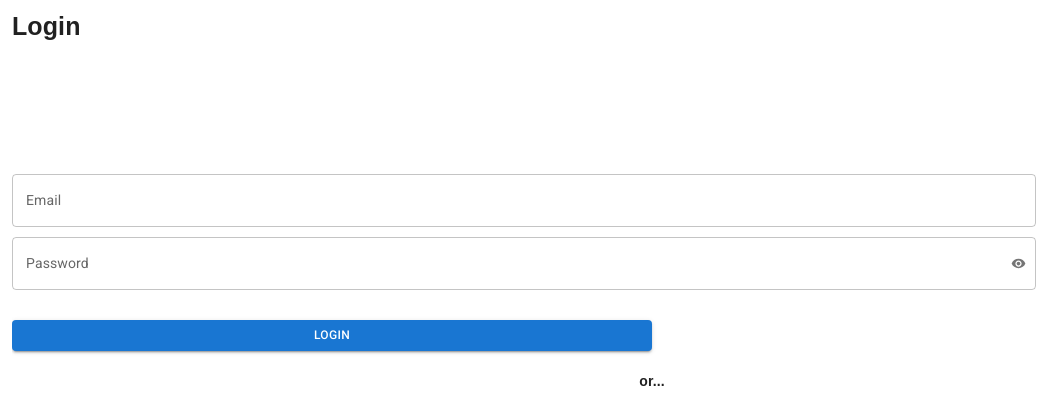
Test: testing Login component › login with email and password successful › button behaviour when submit success
Step 1. Type "test@test.com" into the field labelled "Email" → x=524, y=200, box 12,174 -> 1036,227
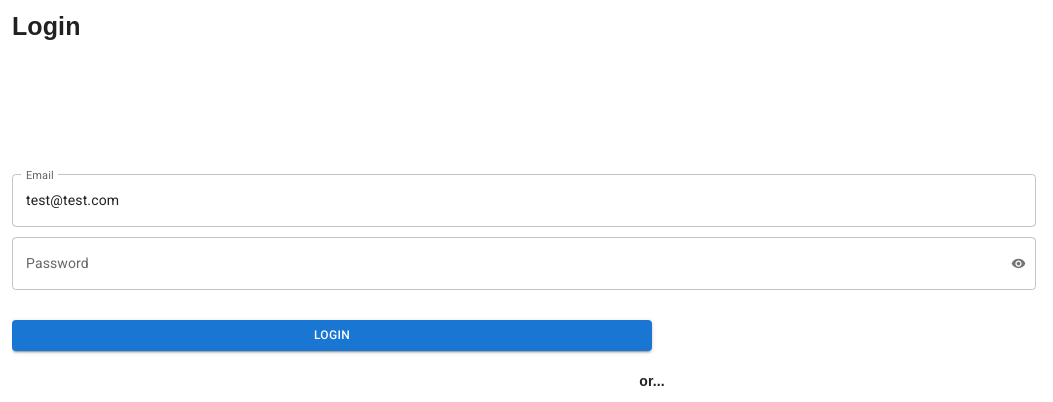
Step 2. Type "testPassword" into the password field with test id "password" → x=504, y=263, box 12,237 -> 995,290
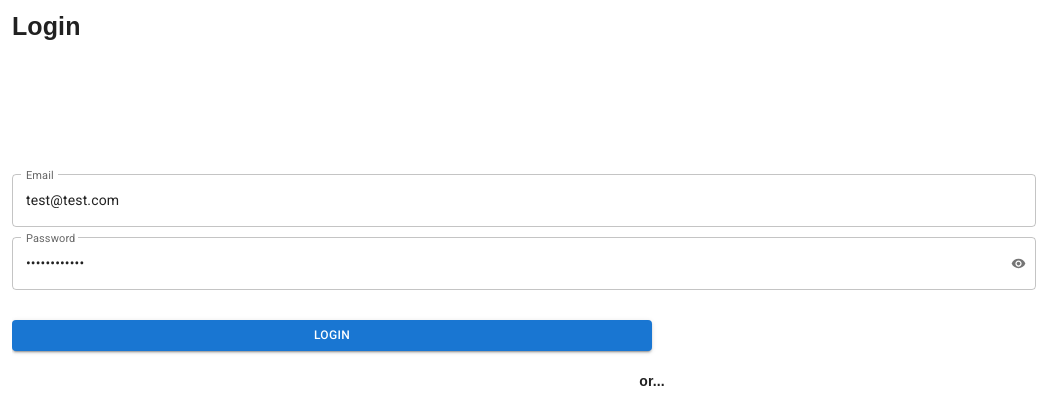
Step 3. Click the button "Login" → x=332, y=335, box 12,320 -> 652,351
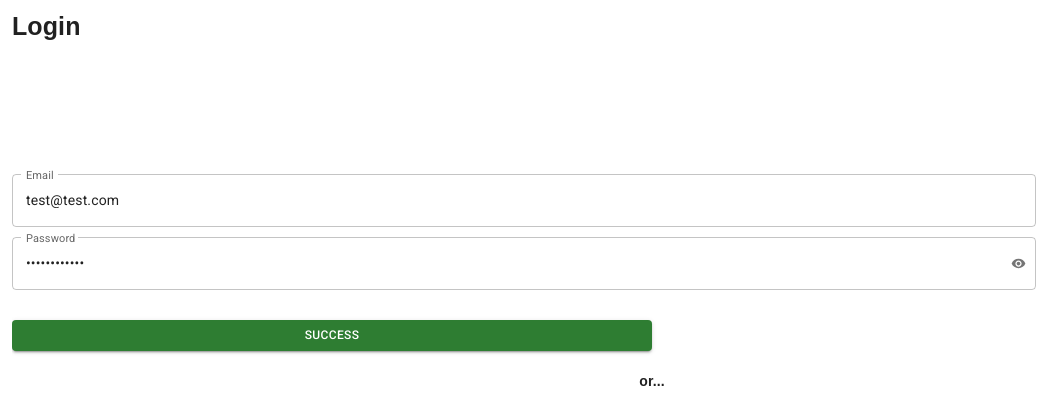
Now the button "Success" is shown, box 12,320 -> 652,351
